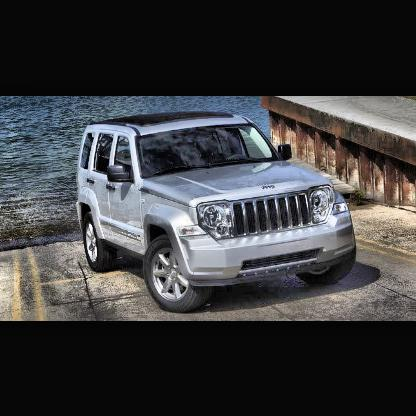Jeep Liberty SUV 2012: (76, 110, 359, 317)
